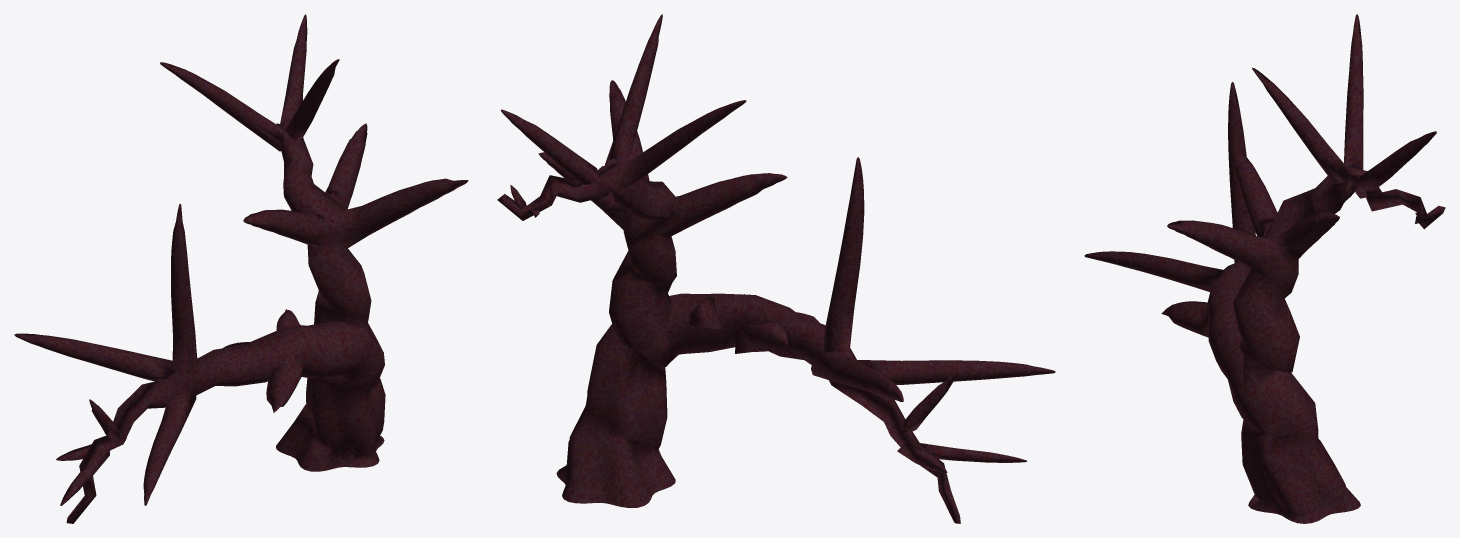
Rendered from Thorns1.obj.
The picture shows the model from 3 angles, left to right: view 1: azimuth 30°, elevation 25°; view 2: azimuth 150°, elevation 25°; view 3: azimuth 270°, elevation 25°; orthographic projection. The views are drawn at different scales.
Parts seen in each view (by area): view 1: Tree_0; view 2: Tree_0; view 3: Tree_0.
Part boxes in pixels (box(x1,y1,x2,y2)): Tree_0: box(14, 14, 468, 523); Tree_0: box(497, 14, 1055, 523); Tree_0: box(1084, 14, 1445, 523).
Bounding box in the file's own units: 1966 × 1974 × 1534.
